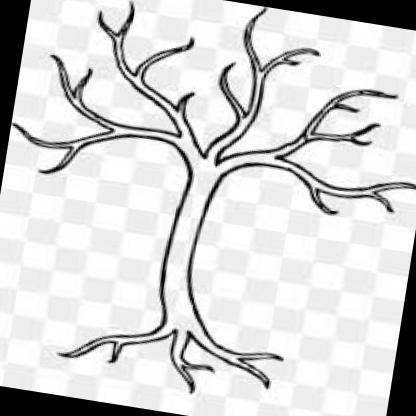branch_sharp: (10, 0, 416, 234)
root_only: (51, 304, 289, 408)
trunk_straight: (150, 218, 222, 305)
